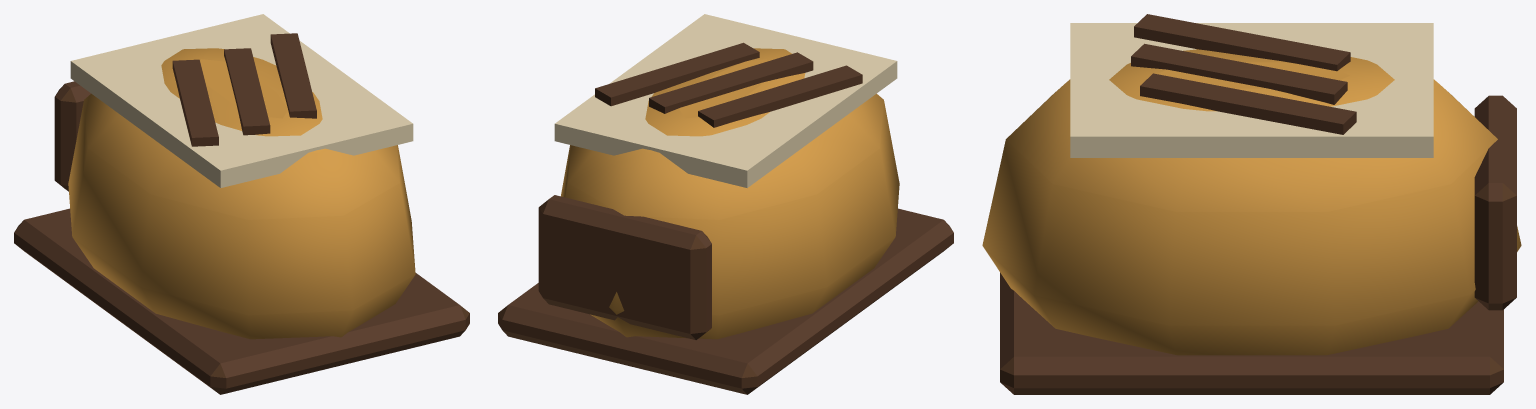
The model's file is item_bread_loaf_a.glb.
3 views of the same model, side by side, from view 1: azimuth 30°, elevation 25°; view 2: azimuth 150°, elevation 25°; view 3: azimuth 270°, elevation 25° (orthographic). The views are drawn at different scales.
Visible parts, largest first — view 1: bread_body, bread_base, bread_flour_dust; view 2: bread_base, bread_body, bread_flour_dust; view 3: bread_body, bread_base, bread_flour_dust.
Boxes of the visible parts, x1,y1,x2,y2 form: bread_body: (68,48,415,339); bread_base: (14,33,469,394); bread_flour_dust: (70,14,413,187); bread_base: (498,42,953,394); bread_body: (561,48,899,339); bread_flour_dust: (554,14,897,187); bread_body: (982,49,1521,355); bread_base: (1000,14,1516,394); bread_flour_dust: (1070,23,1433,157).
Bounding box in the file's own units: 0.1617 × 0.12 × 0.23.
